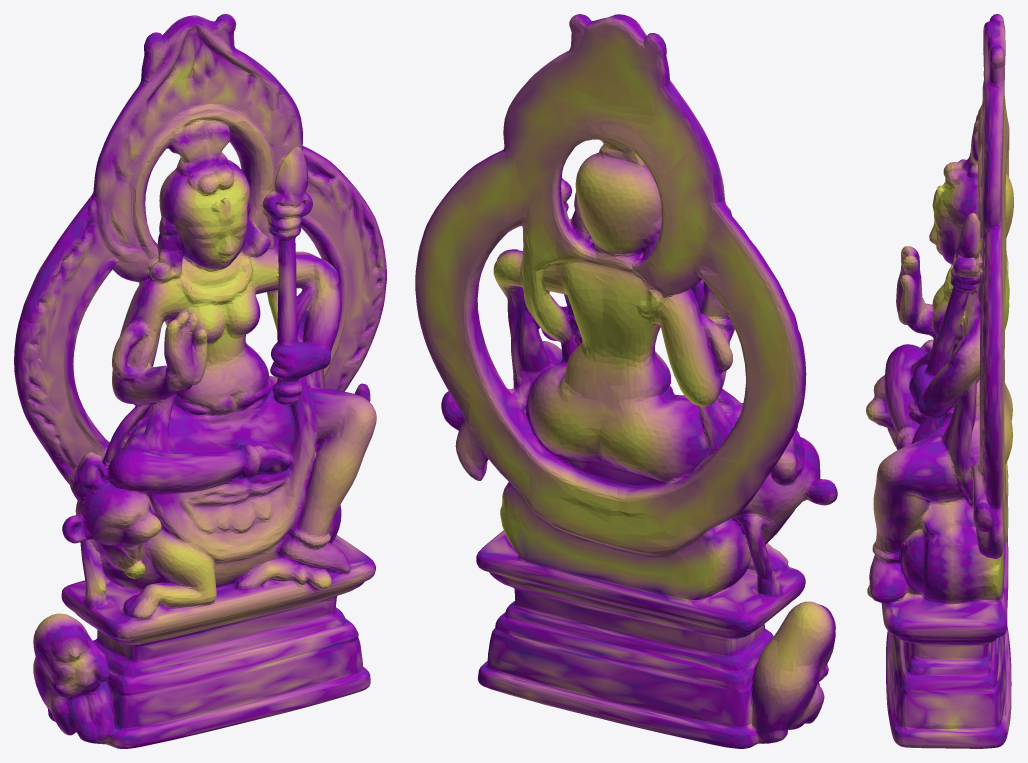
The model's file is iter_4.glb.
3 views of the same model, side by side, from view 1: azimuth 30°, elevation 25°; view 2: azimuth 150°, elevation 25°; view 3: azimuth 270°, elevation 25° (orthographic). The views are drawn at different scales.
Parts seen in each view (by area): view 1: textured_mesh; view 2: textured_mesh; view 3: textured_mesh.
Boxes of the visible parts, left/top/right/bottom form: textured_mesh: left=14, top=14, right=386, bottom=748; textured_mesh: left=415, top=14, right=837, bottom=748; textured_mesh: left=866, top=14, right=1013, bottom=748.
Size of the model in its own units: 1.16 by 1.98 by 0.402.
